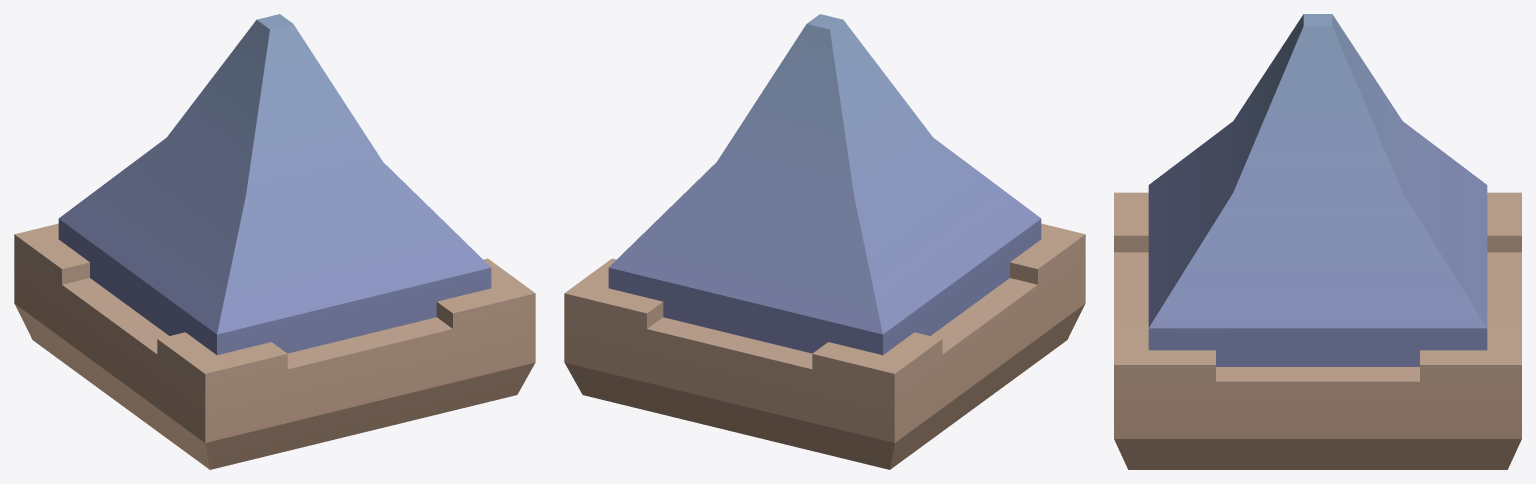
The model's file is tower-square-top-roof.glb.
3 renders of one model, left to right at view 1: azimuth 30°, elevation 25°; view 2: azimuth 150°, elevation 25°; view 3: azimuth 270°, elevation 25°, orthographic. The views are drawn at different scales.
Visible parts, largest first — view 1: tower-square-top-roof; view 2: tower-square-top-roof; view 3: tower-square-top-roof.
Part boxes in pixels (x1,y1,x2,y2): tower-square-top-roof: (14, 14, 535, 469); tower-square-top-roof: (564, 14, 1085, 469); tower-square-top-roof: (1114, 14, 1521, 469).
Size of the model in its own units: 1 by 1 by 1.
